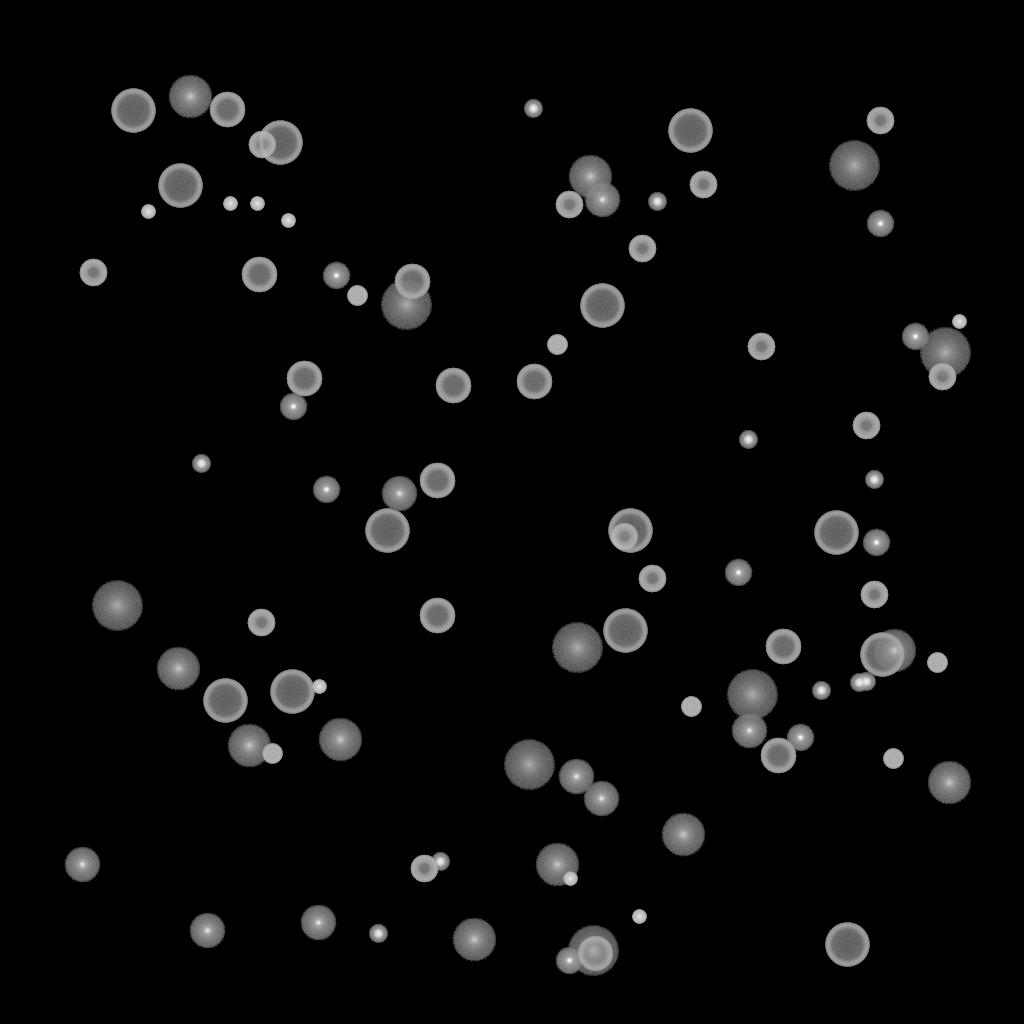depth:-10: (322, 262, 350, 290), (724, 559, 752, 587), (862, 529, 890, 557), (279, 393, 307, 421), (555, 947, 583, 975), (786, 724, 814, 752), (866, 210, 894, 238), (312, 476, 340, 504), (901, 323, 929, 351)
depth:-20: (431, 853, 449, 871), (857, 673, 875, 691), (524, 100, 542, 118), (865, 471, 883, 489), (739, 431, 757, 449), (850, 674, 868, 692), (812, 682, 830, 700), (648, 193, 666, 211), (192, 455, 210, 473), (369, 925, 387, 943)
depth:-30: (952, 315, 966, 329), (563, 872, 577, 886), (141, 205, 155, 219), (632, 910, 646, 924), (312, 680, 326, 694), (281, 214, 295, 228), (223, 197, 237, 211), (250, 197, 264, 211)
depth:-40: (347, 286, 367, 306), (883, 749, 903, 769), (681, 697, 701, 717), (547, 335, 567, 355), (262, 744, 282, 764), (927, 653, 947, 673)
depth:-50: (247, 609, 275, 637), (747, 333, 775, 361), (610, 523, 638, 551), (866, 107, 894, 135), (628, 235, 656, 263), (555, 191, 583, 219), (410, 855, 438, 883), (248, 131, 276, 159), (928, 363, 956, 391), (852, 412, 880, 440), (860, 581, 888, 609), (79, 259, 107, 287), (689, 171, 717, 199), (638, 565, 666, 593)
depth:-60: (241, 257, 277, 293), (419, 463, 455, 499), (209, 92, 245, 128), (760, 738, 796, 774), (419, 598, 455, 634), (577, 936, 613, 972), (516, 364, 552, 400), (286, 361, 322, 397), (765, 629, 801, 665), (394, 264, 430, 300), (435, 368, 471, 404)
depth:-70: (258, 121, 302, 165), (158, 164, 202, 208), (814, 511, 858, 555), (825, 923, 869, 967), (111, 89, 155, 133), (603, 609, 647, 653), (608, 509, 652, 553), (270, 670, 314, 714), (365, 509, 409, 553), (580, 284, 624, 328), (203, 679, 247, 723), (668, 109, 712, 153), (860, 633, 904, 677)
depth:0: (64, 847, 100, 883), (381, 476, 417, 512), (583, 781, 619, 817), (300, 905, 336, 941), (584, 182, 620, 218), (558, 759, 594, 795), (189, 913, 225, 949), (731, 713, 767, 749)
depth:10: (927, 761, 971, 805), (661, 813, 705, 857), (452, 918, 496, 962), (872, 629, 916, 673), (227, 724, 271, 768), (156, 647, 200, 691), (168, 75, 212, 119), (318, 718, 362, 762), (568, 155, 612, 199), (535, 843, 579, 887)
depth:20: (551, 623, 603, 673), (91, 581, 143, 631), (726, 670, 778, 720), (828, 141, 880, 191), (380, 280, 432, 330), (919, 328, 971, 378), (567, 926, 619, 976), (503, 740, 555, 790)
